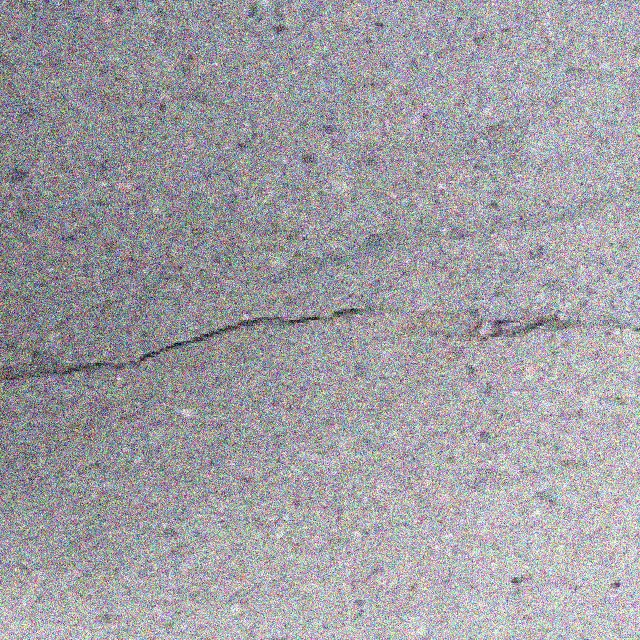SurfaceCrack: (6, 286, 640, 418)
